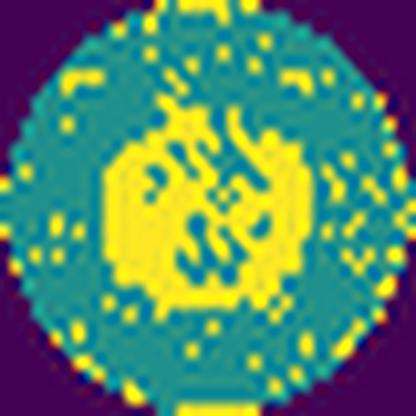Donut: (92, 98, 320, 322)
